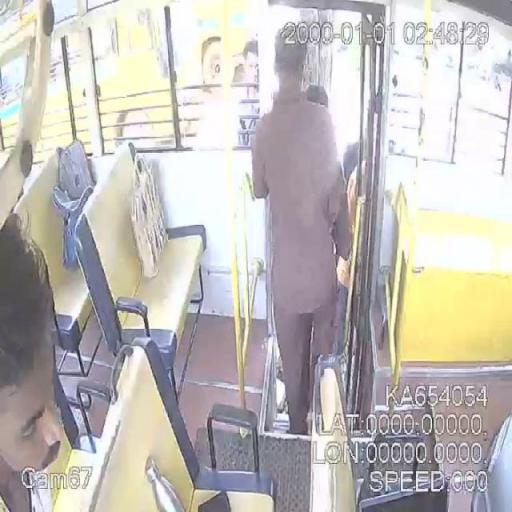persona: (250, 22, 352, 436), (0, 211, 64, 511)
